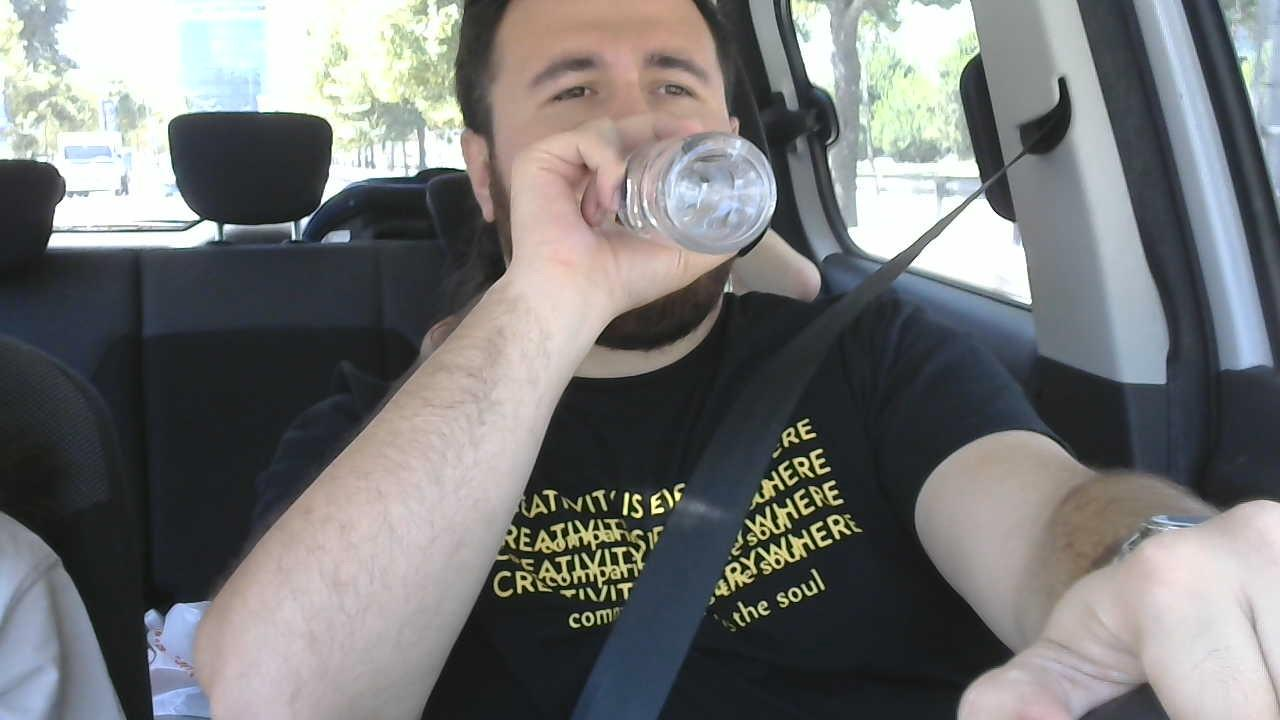Drinking: (458, 1, 773, 342)
